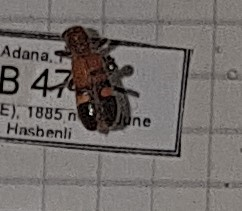opilo_taeniatus: (53, 21, 143, 135)
